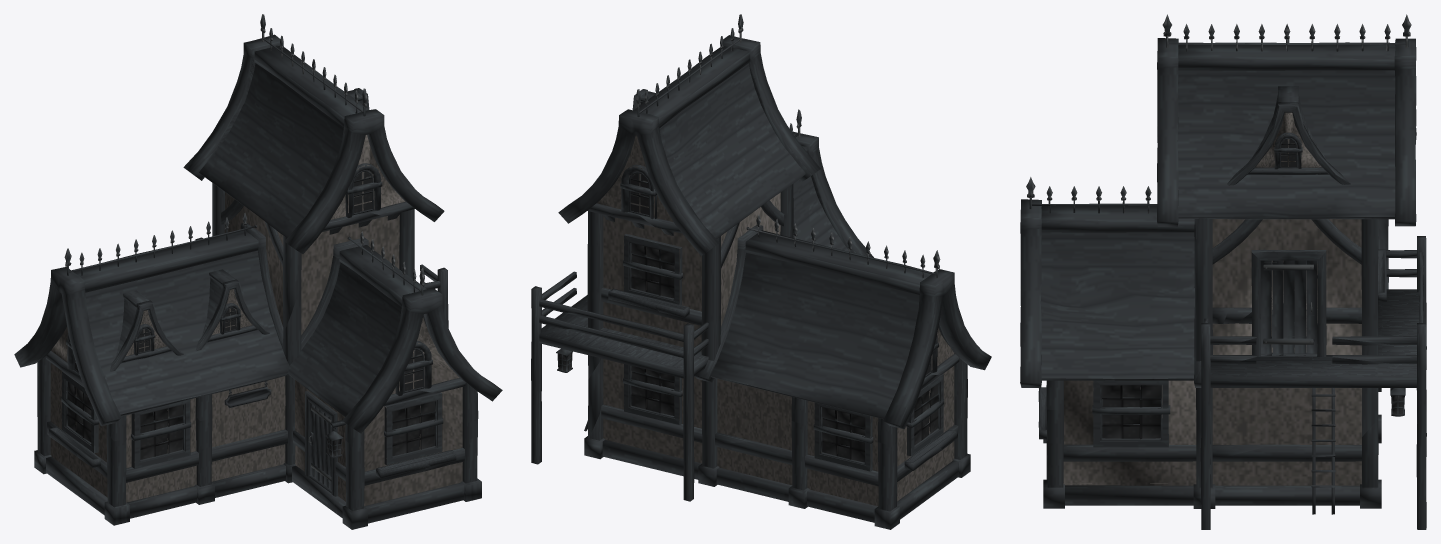
Rendered from HouseC.fbx.
3 renders of one model, left to right at view 1: azimuth 30°, elevation 25°; view 2: azimuth 150°, elevation 25°; view 3: azimuth 270°, elevation 25°, orthographic. The views are drawn at different scales.
Parts seen in each view (by area): view 1: HouseC; view 2: HouseC; view 3: HouseC.
Boxes of the visible parts, x1,y1,x2,y2 form: HouseC: (14,14,502,529); HouseC: (531,14,991,529); HouseC: (1020,14,1426,529).
Bounding box in the file's own units: 18.77 × 19.83 × 15.91.
